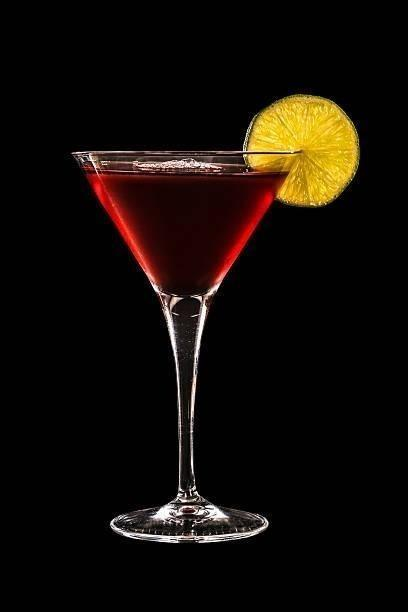glass-wine: (68, 144, 302, 545)
